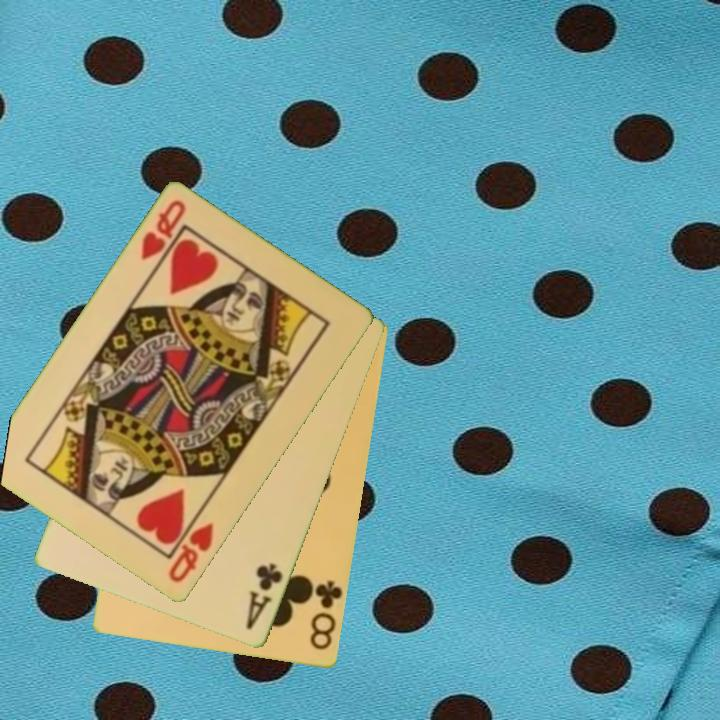8c: (306, 577, 345, 653)
Ac: (243, 560, 286, 633)
Qh: (165, 508, 217, 586), (137, 196, 190, 264)
